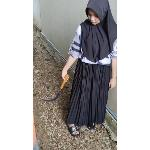Celurit: (40, 72, 72, 103)
